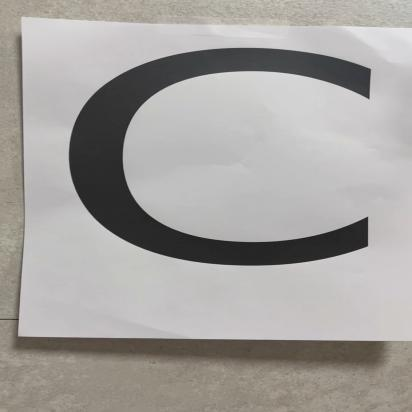seat: (12, 8, 412, 355)
